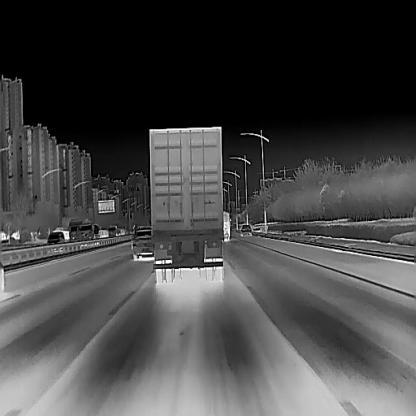car: (149, 126, 223, 283), (131, 227, 154, 258), (68, 219, 83, 241), (79, 220, 94, 239), (222, 211, 231, 241), (46, 231, 64, 245), (107, 225, 120, 237), (240, 223, 251, 235)
